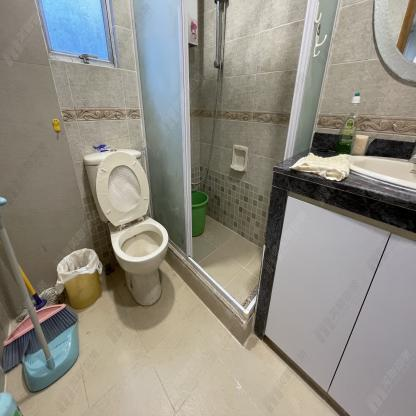Toilet: (84, 145, 172, 309)
Toilet Sink: (342, 152, 416, 193)
Water Cubicle: (127, 0, 342, 347)
